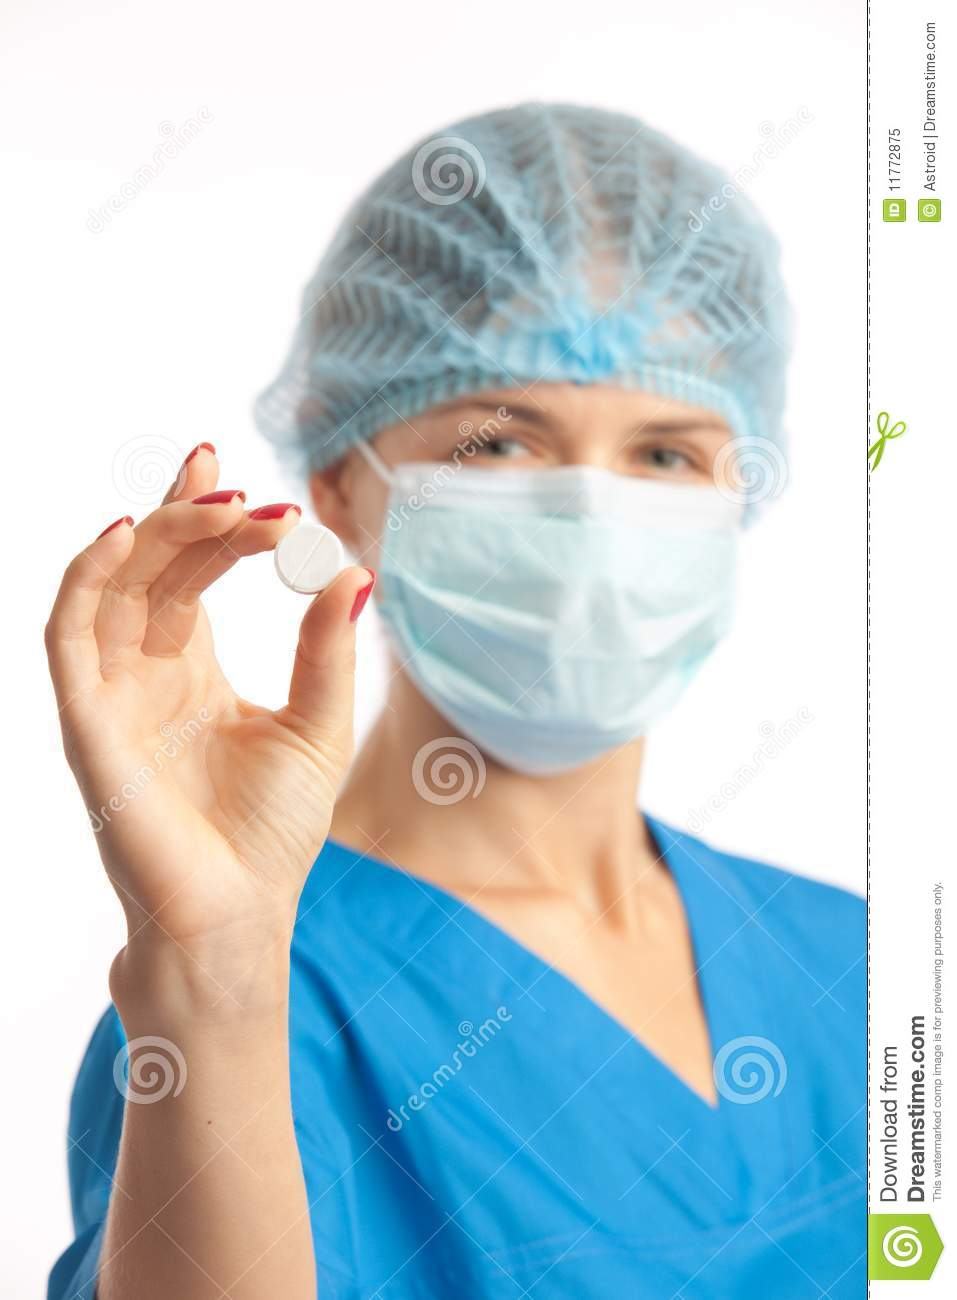mask: (373, 459, 743, 783)
